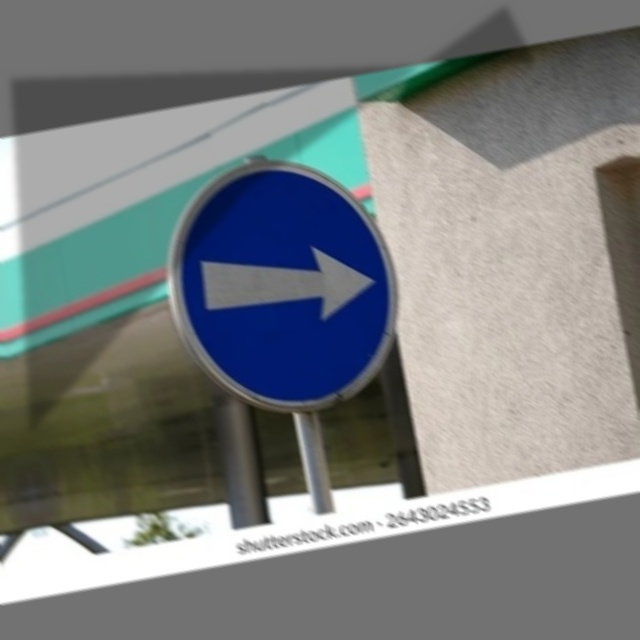Compulsory_Turn_Right: (155, 137, 422, 431)
